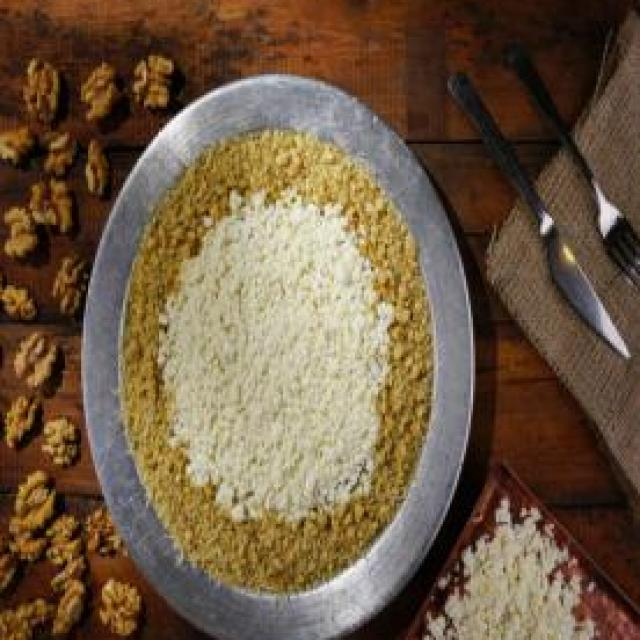knife: (443, 70, 631, 362)
